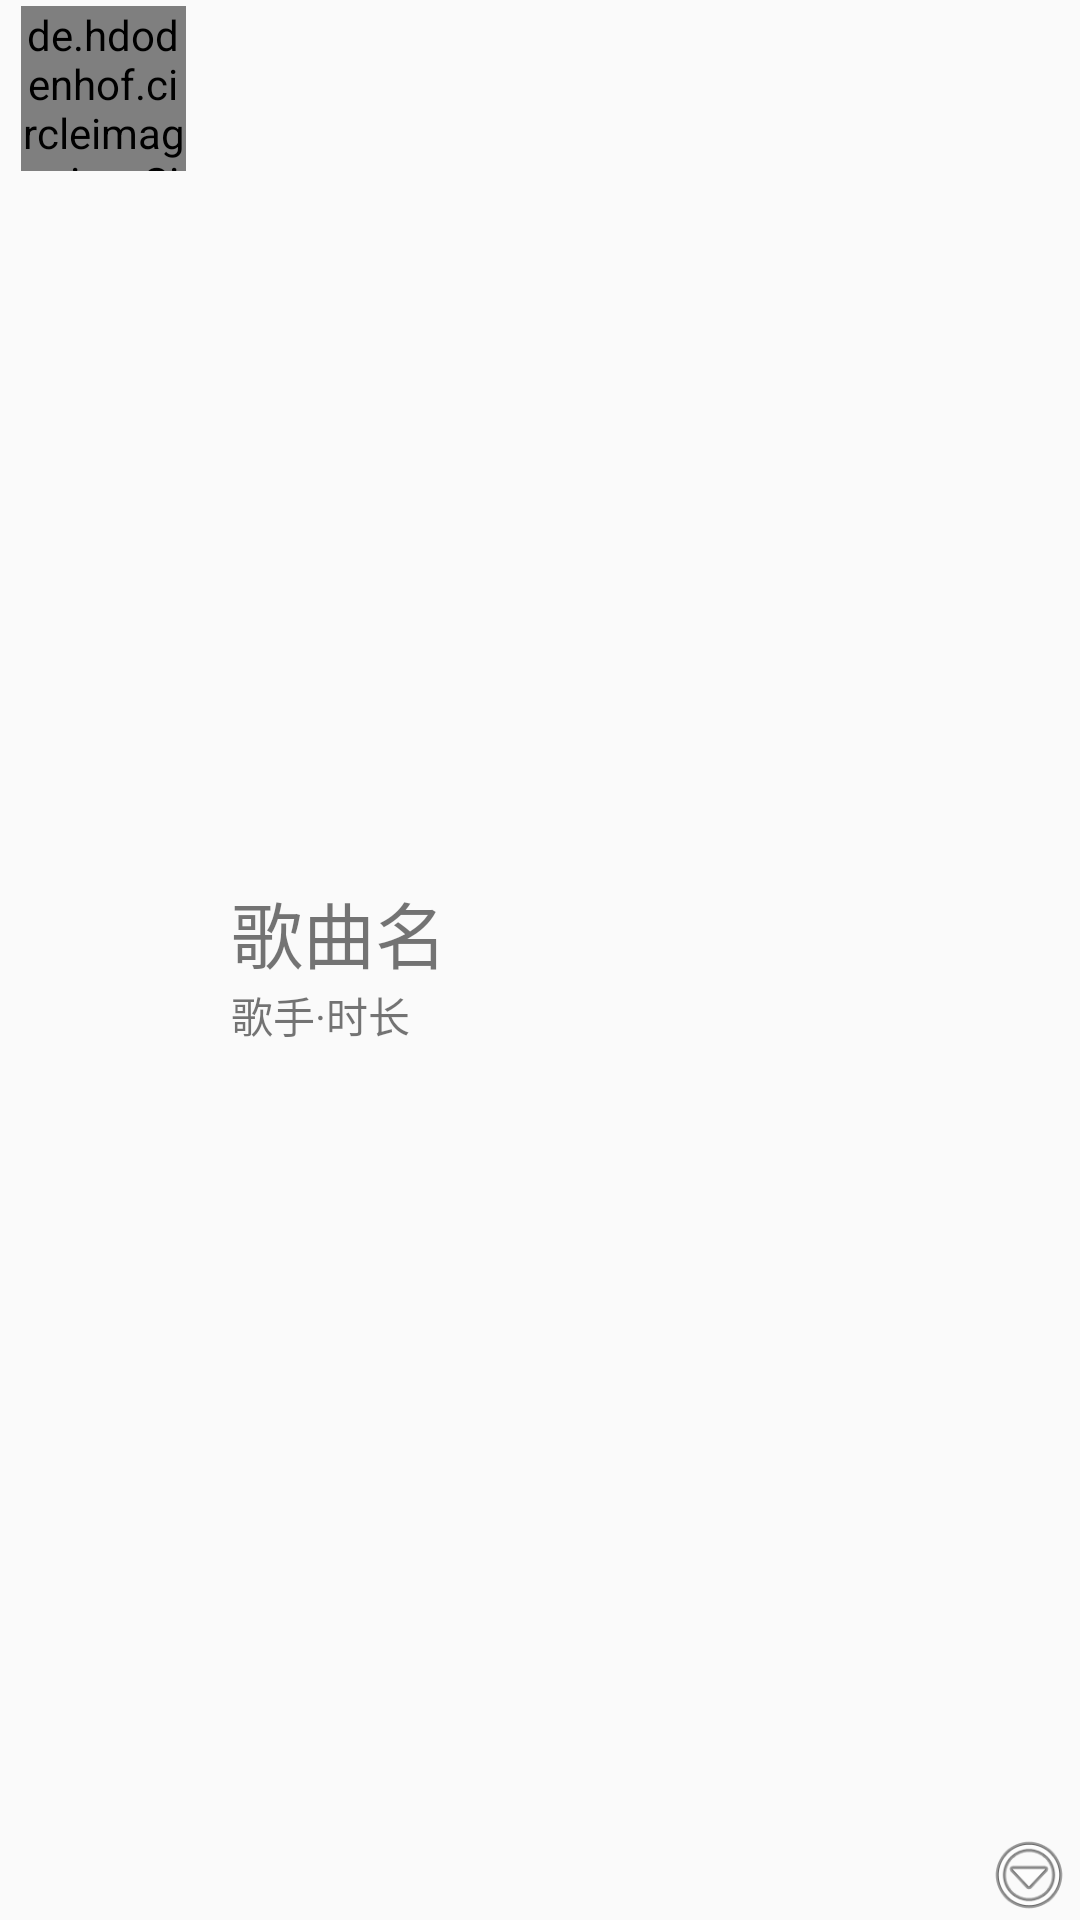

Named icons in this screenshot (1080 x 1920) and their bounding boxes, (x1, y1, x2, y2):
more: (995, 1842, 1063, 1908)
